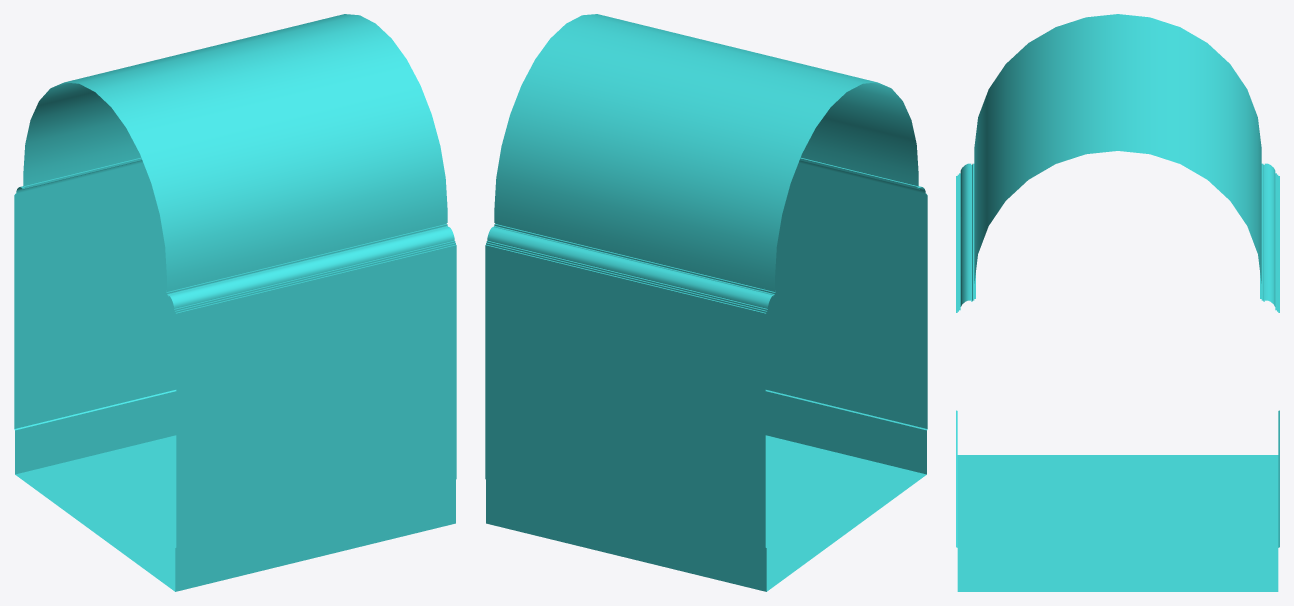
The model's file is Corridor_Forward.fbx.
3 renders of one model, left to right at view 1: azimuth 30°, elevation 25°; view 2: azimuth 150°, elevation 25°; view 3: azimuth 270°, elevation 25°, orthographic.
Visible parts, largest first — view 1: Couloir 1; view 2: Couloir 1; view 3: Couloir 1.
Part boxes in pixels (x1=…): Couloir 1: x1=14, y1=14, x2=456, y2=591; Couloir 1: x1=485, y1=14, x2=927, y2=591; Couloir 1: x1=956, y1=14, x2=1279, y2=591.
Bounding box in the file's own units: 800 × 1202 × 800.
